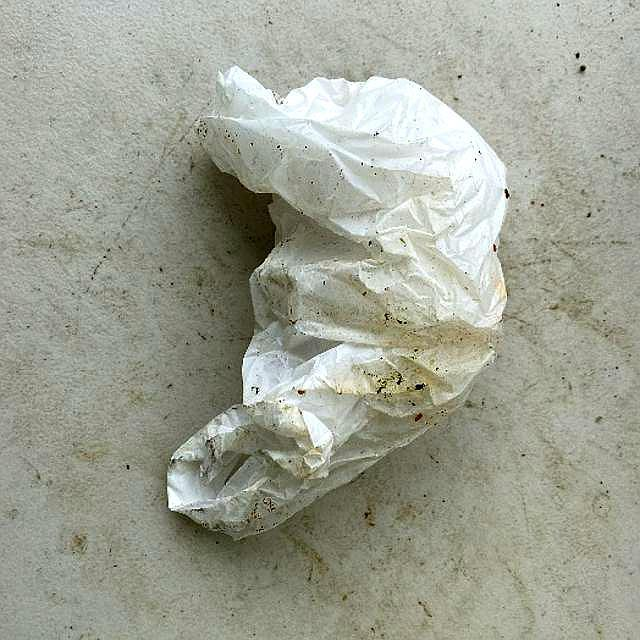Non-biodegradable: (164, 64, 513, 542)
